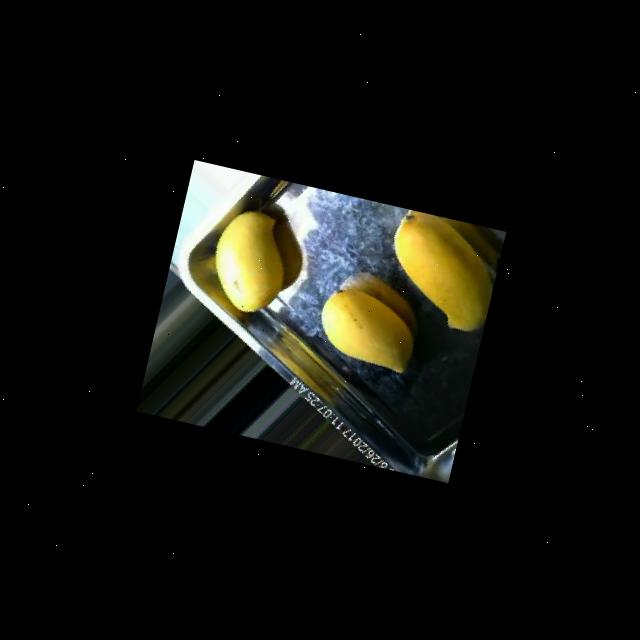Mango: (374, 206, 504, 336), (202, 202, 297, 318), (312, 282, 424, 375)
